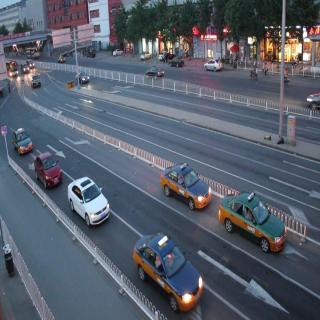Car: (133, 230, 202, 310), (220, 184, 286, 257), (160, 159, 213, 214), (68, 175, 112, 227), (34, 151, 63, 190), (11, 129, 35, 156), (144, 64, 168, 86), (205, 56, 223, 74), (75, 70, 92, 86), (168, 56, 184, 70), (29, 73, 42, 89), (85, 45, 97, 59), (113, 43, 124, 58), (140, 50, 151, 60), (56, 53, 66, 64)
